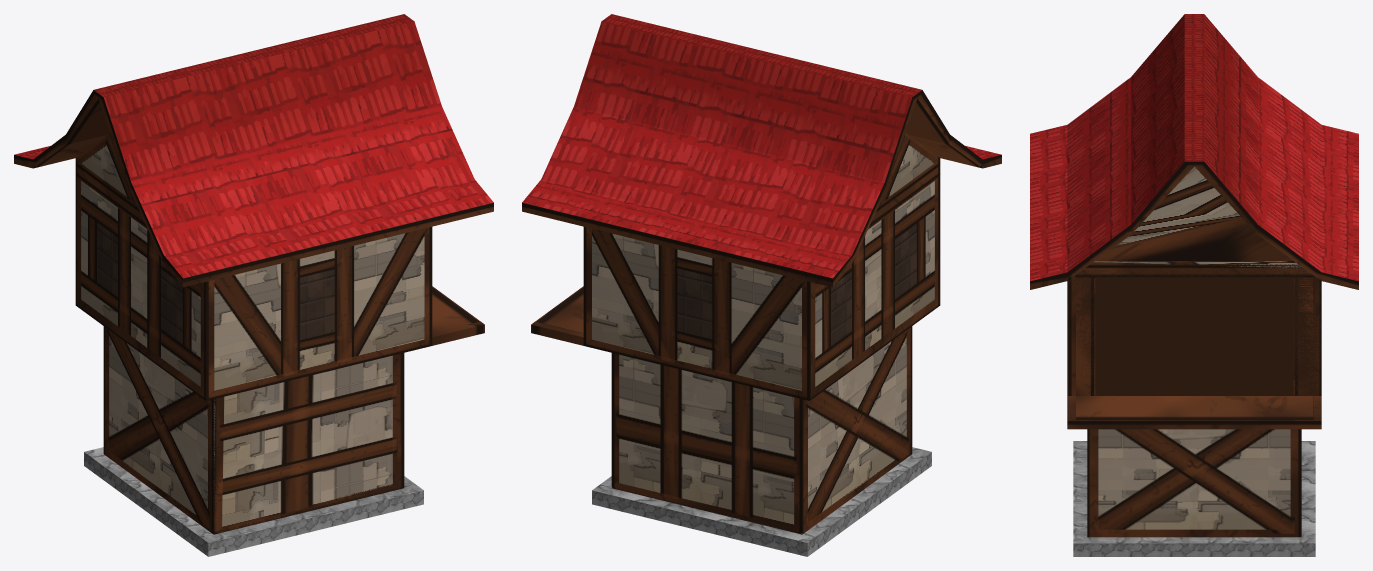
File: House Base4_B.fbx
The picture shows the model from 3 angles, left to right: view 1: azimuth 30°, elevation 25°; view 2: azimuth 150°, elevation 25°; view 3: azimuth 270°, elevation 25°; orthographic projection. The views are drawn at different scales.
Visible parts, largest first — view 1: House Base 4b, House Base 4b_col; view 2: House Base 4b, House Base 4b_col; view 3: House Base 4b, House Base 4b_col.
Part boxes in pixels (x1=…): House Base 4b: x1=14, y1=14, x2=493, y2=556; House Base 4b_col: x1=75, y1=134, x2=483, y2=534; House Base 4b: x1=522, y1=14, x2=1001, y2=556; House Base 4b_col: x1=536, y1=133, x2=940, y2=533; House Base 4b: x1=1030, y1=14, x2=1358, y2=556; House Base 4b_col: x1=1067, y1=166, x2=1321, y2=529.
Bounding box in the file's own units: 989 × 1264 × 902.
